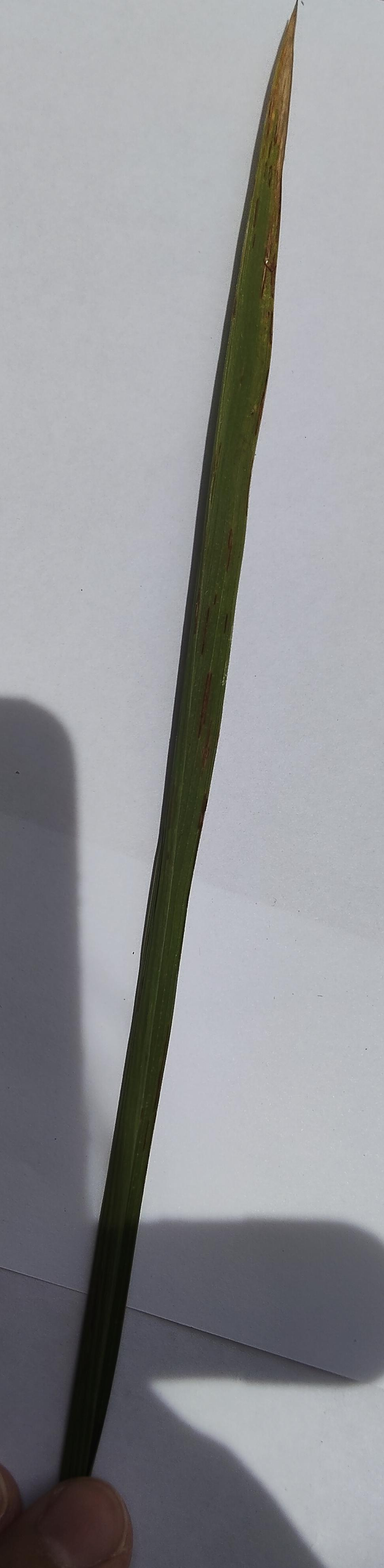NBS: (197, 671, 213, 739), (201, 718, 212, 769), (199, 606, 210, 656), (197, 795, 208, 830), (226, 528, 233, 572), (193, 591, 200, 635), (141, 1118, 150, 1152), (252, 197, 261, 228), (268, 311, 273, 346), (222, 612, 229, 634), (268, 140, 273, 159), (213, 593, 218, 605)
